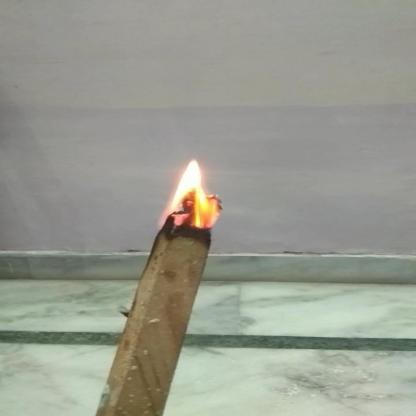fire: (150, 154, 229, 229)
